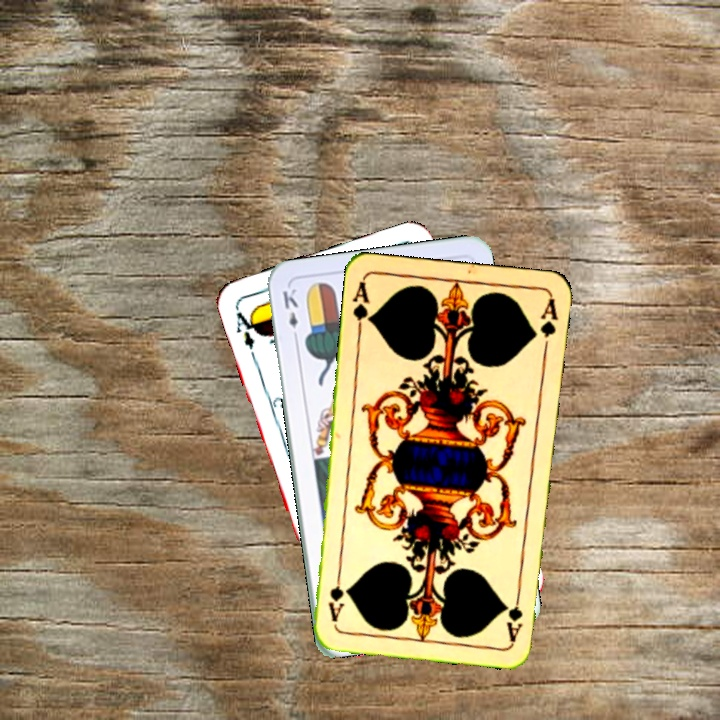EA: (231, 303, 262, 360)
EK: (278, 284, 301, 344)
GA: (349, 277, 375, 337), (503, 584, 525, 643)
